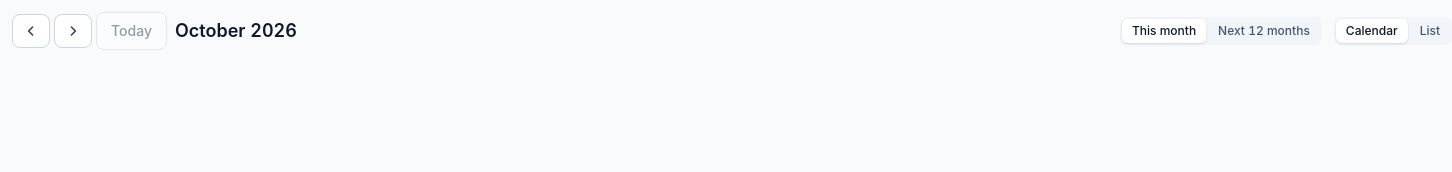
Test: ViewToolbar › switches between calendar and list and between this month and the next 12 months
Expected: the radio button labelled "Calendar" is checked, 1336,19 -> 1408,43
Click the radio button labelled "List".
click(1430, 30)  # box 1420,23 -> 1440,38
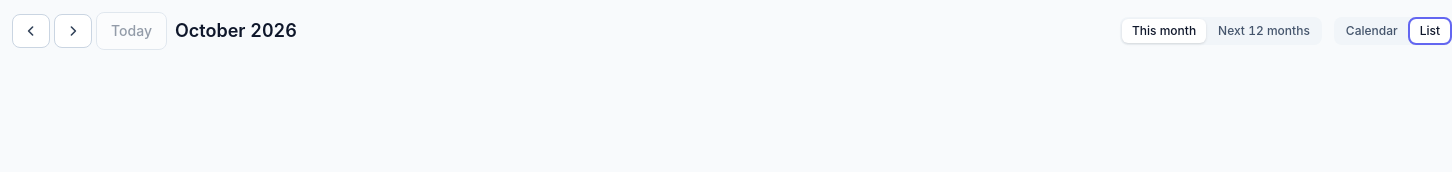
Now the radio button labelled "List" is checked, box 1410,19 -> 1450,43
Click the radio button labelled "Calendar".
click(1372, 30)  # box 1346,23 -> 1398,38
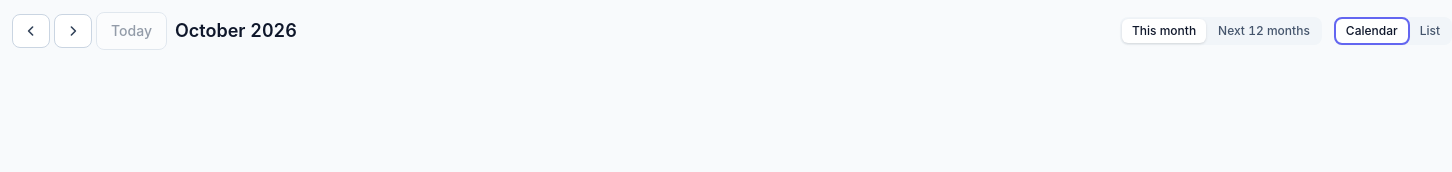
Click the radio button labelled "Next 12 months".
click(1264, 30)  # box 1218,23 -> 1310,38
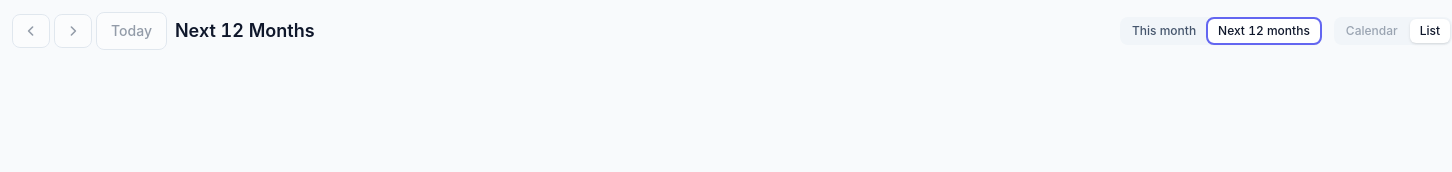
Now the radio button labelled "List" is checked, box 1410,19 -> 1450,43
Now the radio button labelled "Calendar" is disabled, box 1346,23 -> 1398,38
Now the heading "Next 12 months" is shown, box 175,17 -> 315,45
Click the radio button labelled "This month".
click(1164, 30)  # box 1132,23 -> 1196,38
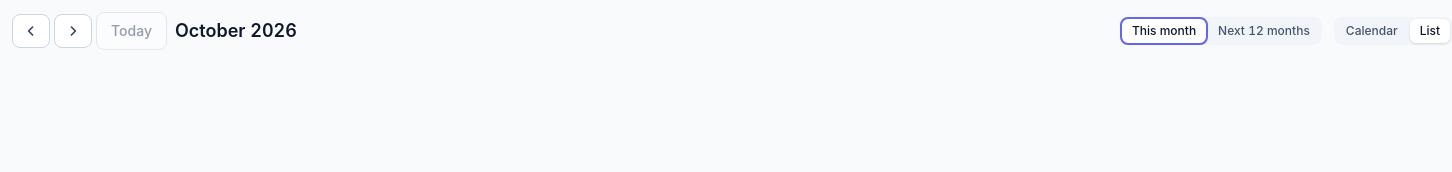
Now the radio button labelled "List" is checked, box 1410,19 -> 1450,43
Now the radio button labelled "Calendar" is enabled, box 1346,23 -> 1398,38
